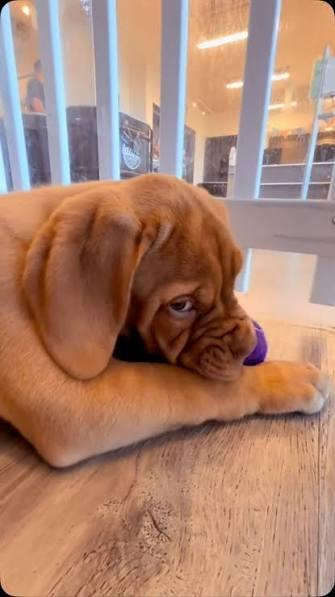puppy-dog: (0, 170, 327, 468)
